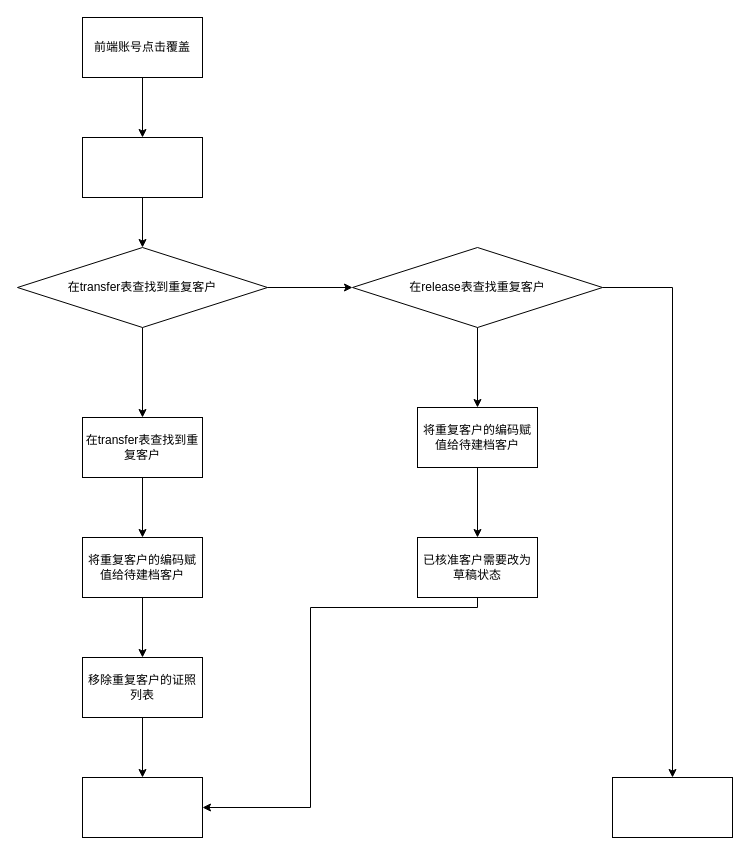
Image size: 750x855. Some labels were removed from this diagram. The box of each missing label's shape, as (x1, y1, x2, y2) in pixels:
查找重复客户: (82, 136, 202, 198)
覆盖失败，重复供应商已被修改，目前无重复: (612, 776, 732, 838)
覆盖完成: (82, 776, 202, 838)
